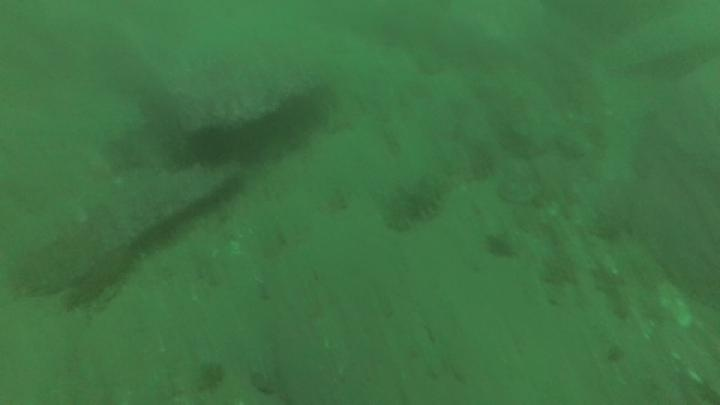echinus: (186, 123, 236, 168)
holothurian: (380, 167, 454, 234)
